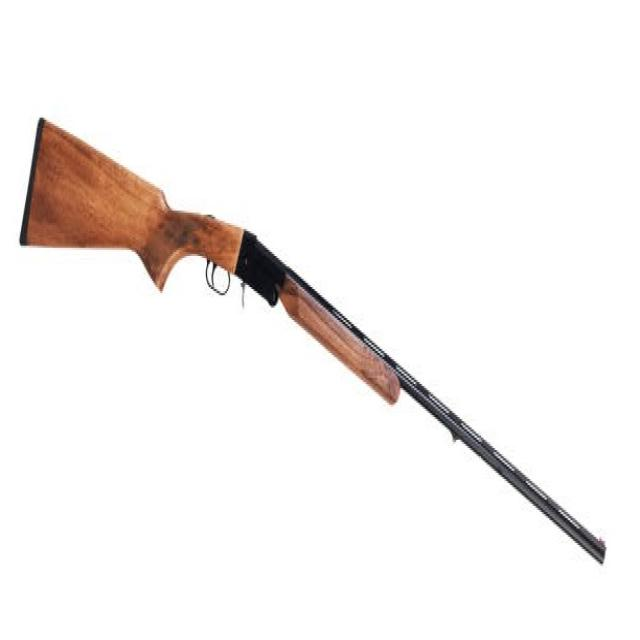rifle: (18, 102, 613, 577)
